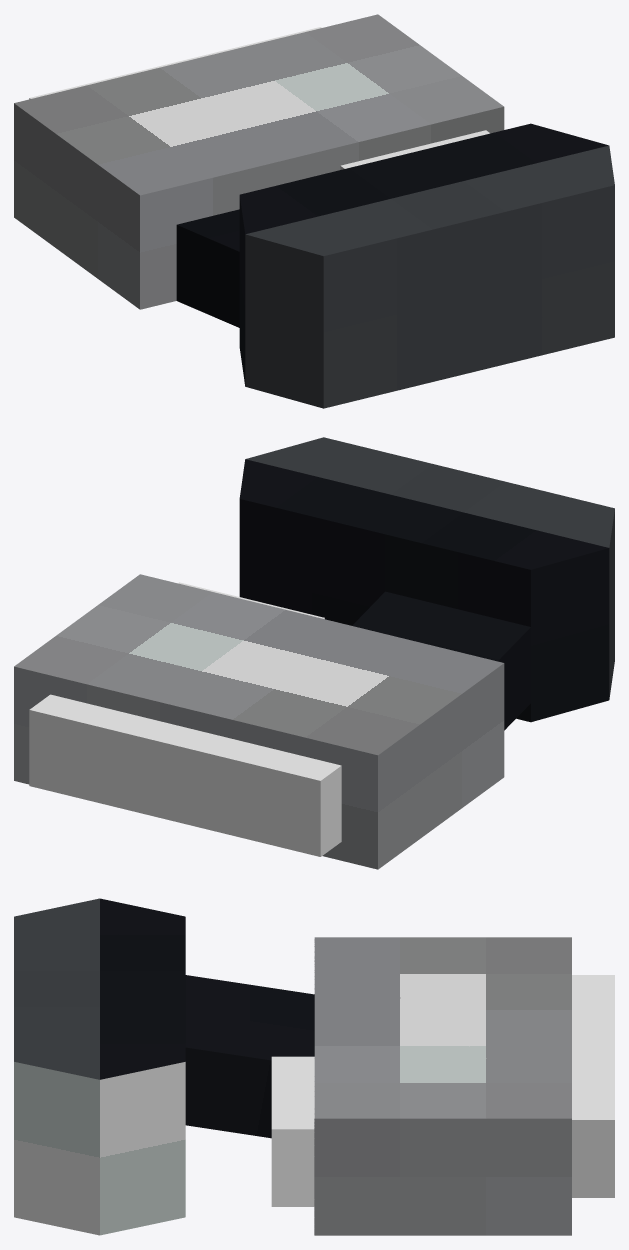
File: intake_fi_basic.obj
3 views of the same model, one above another, from view 1: azimuth 30°, elevation 25°; view 2: azimuth 150°, elevation 25°; view 3: azimuth 270°, elevation 25° (orthographic). The views are drawn at different scales.
Parts seen in each view (by area): view 1: cuboid, filter_cover; view 2: cuboid, filter_cover; view 3: cuboid, filter_cover.
Boxes of the visible parts, left/top/right/bottom form: cuboid: left=14, top=14, right=608, bottom=385; filter_cover: left=245, top=145, right=614, bottom=408; cuboid: left=14, top=459, right=609, bottom=869; filter_cover: left=245, top=437, right=614, bottom=699; cuboid: left=100, top=898, right=614, bottom=1235; filter_cover: left=14, top=898, right=99, bottom=1235.
Bounding box in the file's own units: 0.3125 × 0.1406 × 0.4375.
